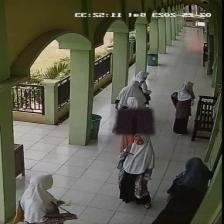Cadar_Niqab: (114, 96, 154, 134)
